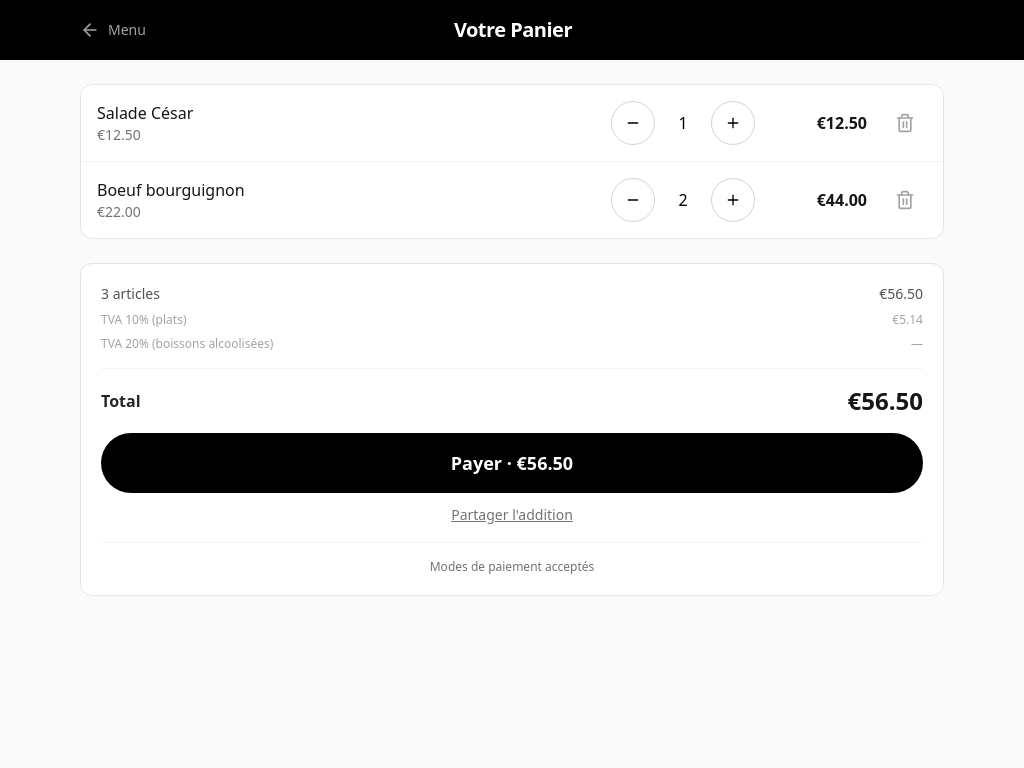
Scenario: CartPage — quantity controls › removes item when trash button is clicked
Click the button named "Retirer l'article — Salade César": [905, 123] box [883,101,927,145]
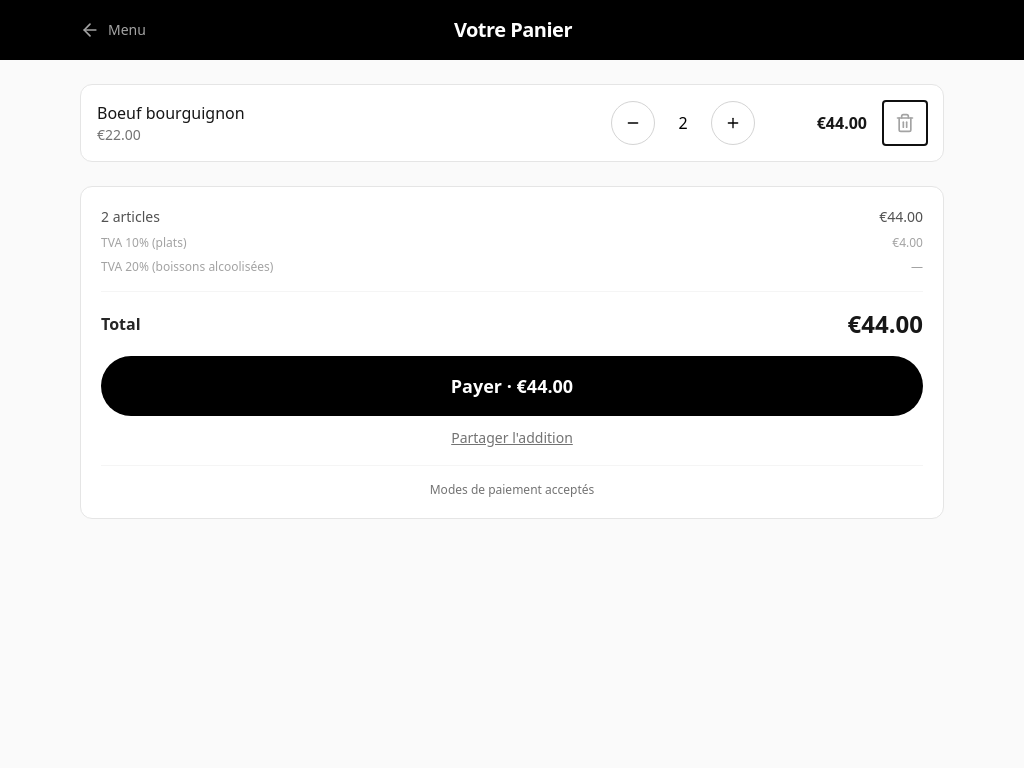
Expected: the heading "Salade César" is gone
